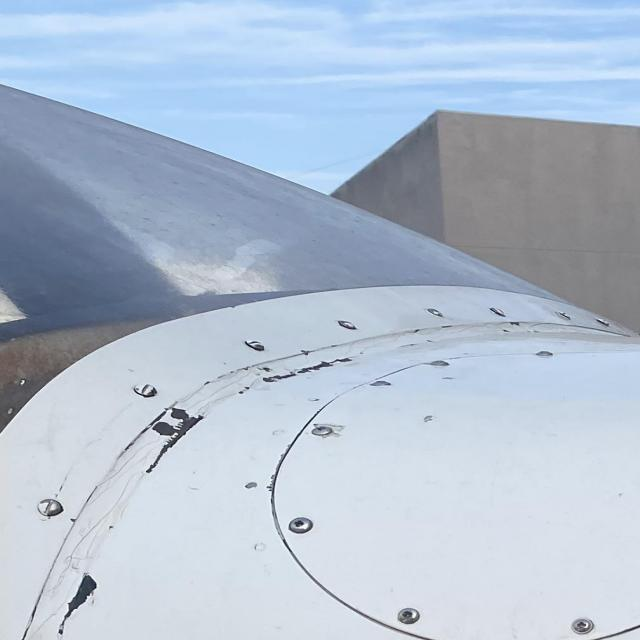Paint-off: (145, 408, 204, 475), (64, 572, 98, 622), (254, 362, 275, 375), (241, 482, 261, 492), (237, 384, 254, 395), (422, 415, 436, 424), (202, 379, 211, 386)
